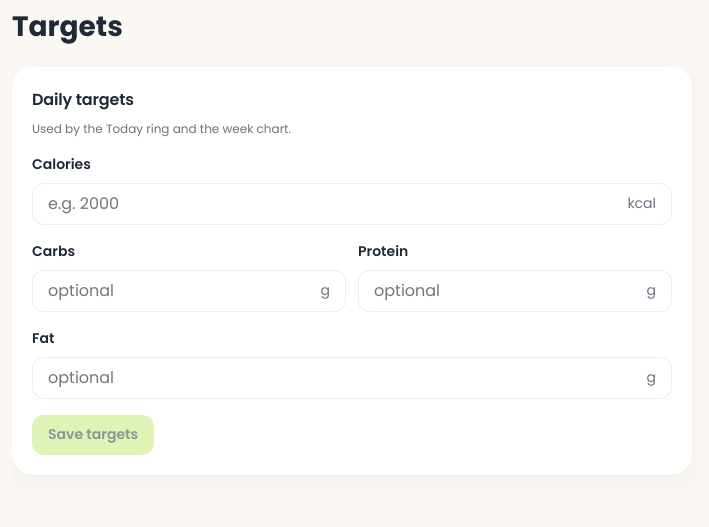
Test: TargetsPage › saves with PUT /api/targets and confirms
This screenshot has width=709, height=527.
Type "2990" into the field labelled "Calories".
click(334, 204); type("2990")  # box [48, 183, 619, 224]
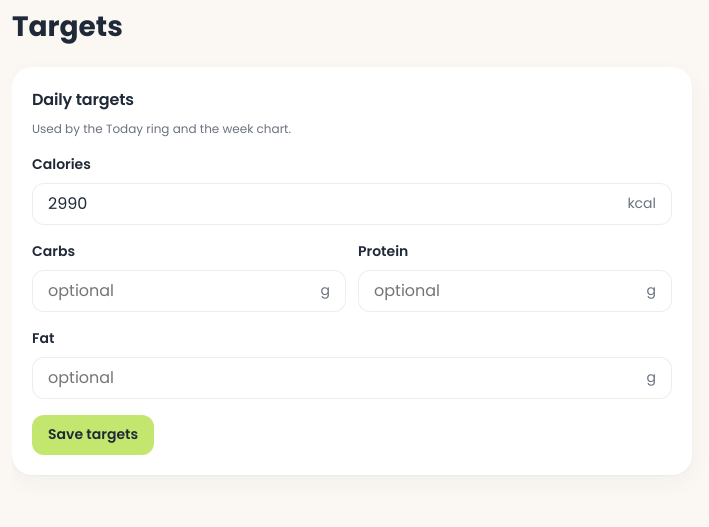
Type "325" into the field labelled "Carbs".
click(180, 290); type("325")  # box [48, 270, 312, 311]
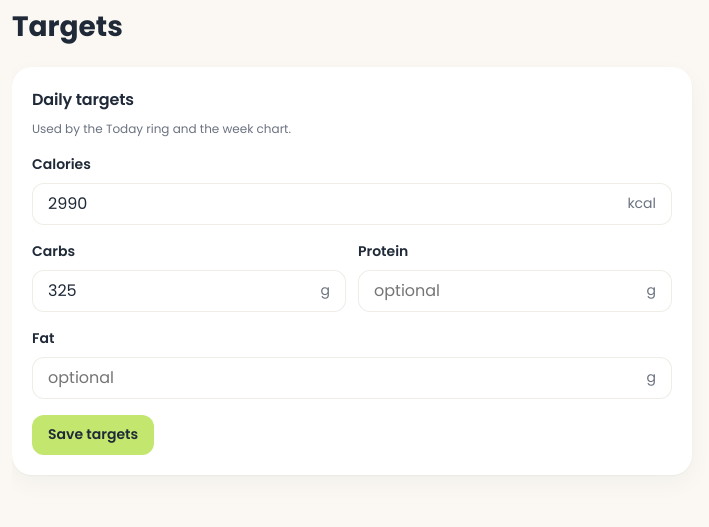
Type "75" into the field labelled "Protein".
click(506, 290); type("75")  # box [374, 270, 638, 311]
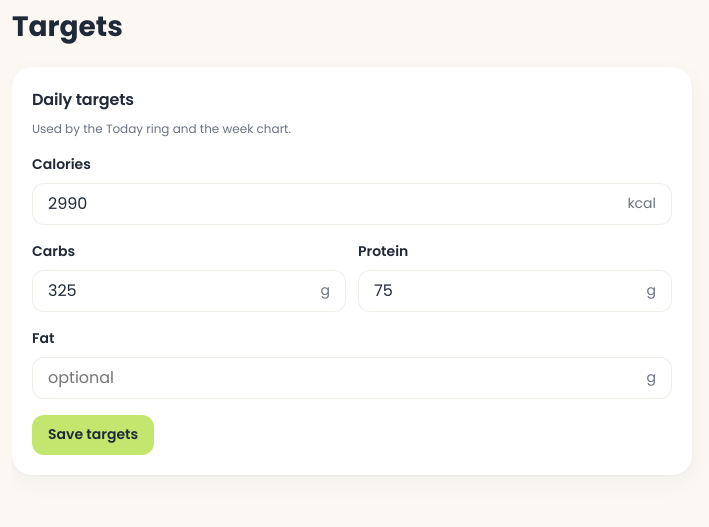
Type "44" into the field labelled "Fat".
click(343, 378); type("44")  # box [48, 357, 638, 398]
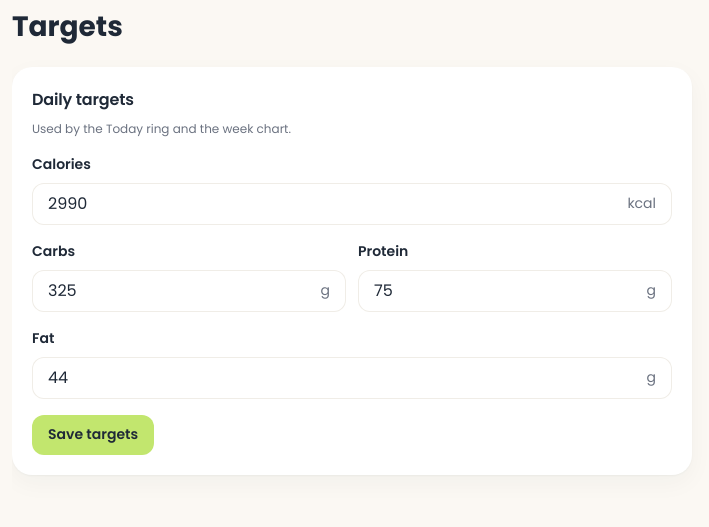
Click the button "Save targets".
click(93, 434)  # box [32, 414, 154, 454]
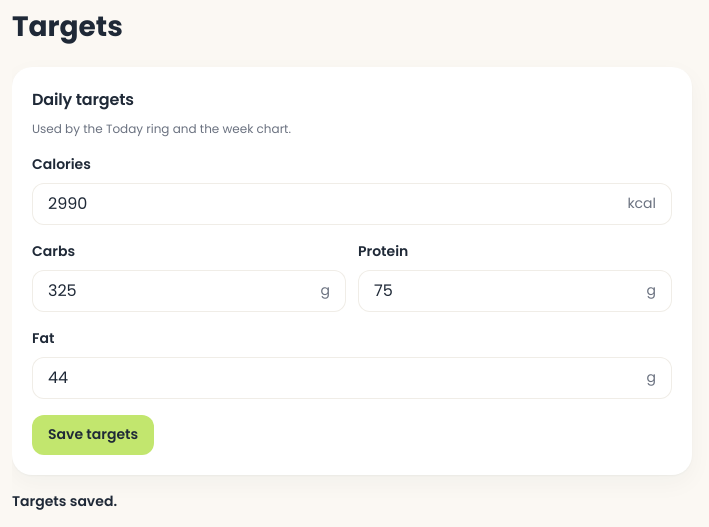
expect the message reads "Targets saved.": met, box [12, 490, 117, 510]
